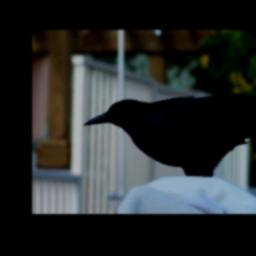Crow: (82, 92, 256, 175)
